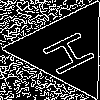H: (41, 24, 100, 78)
